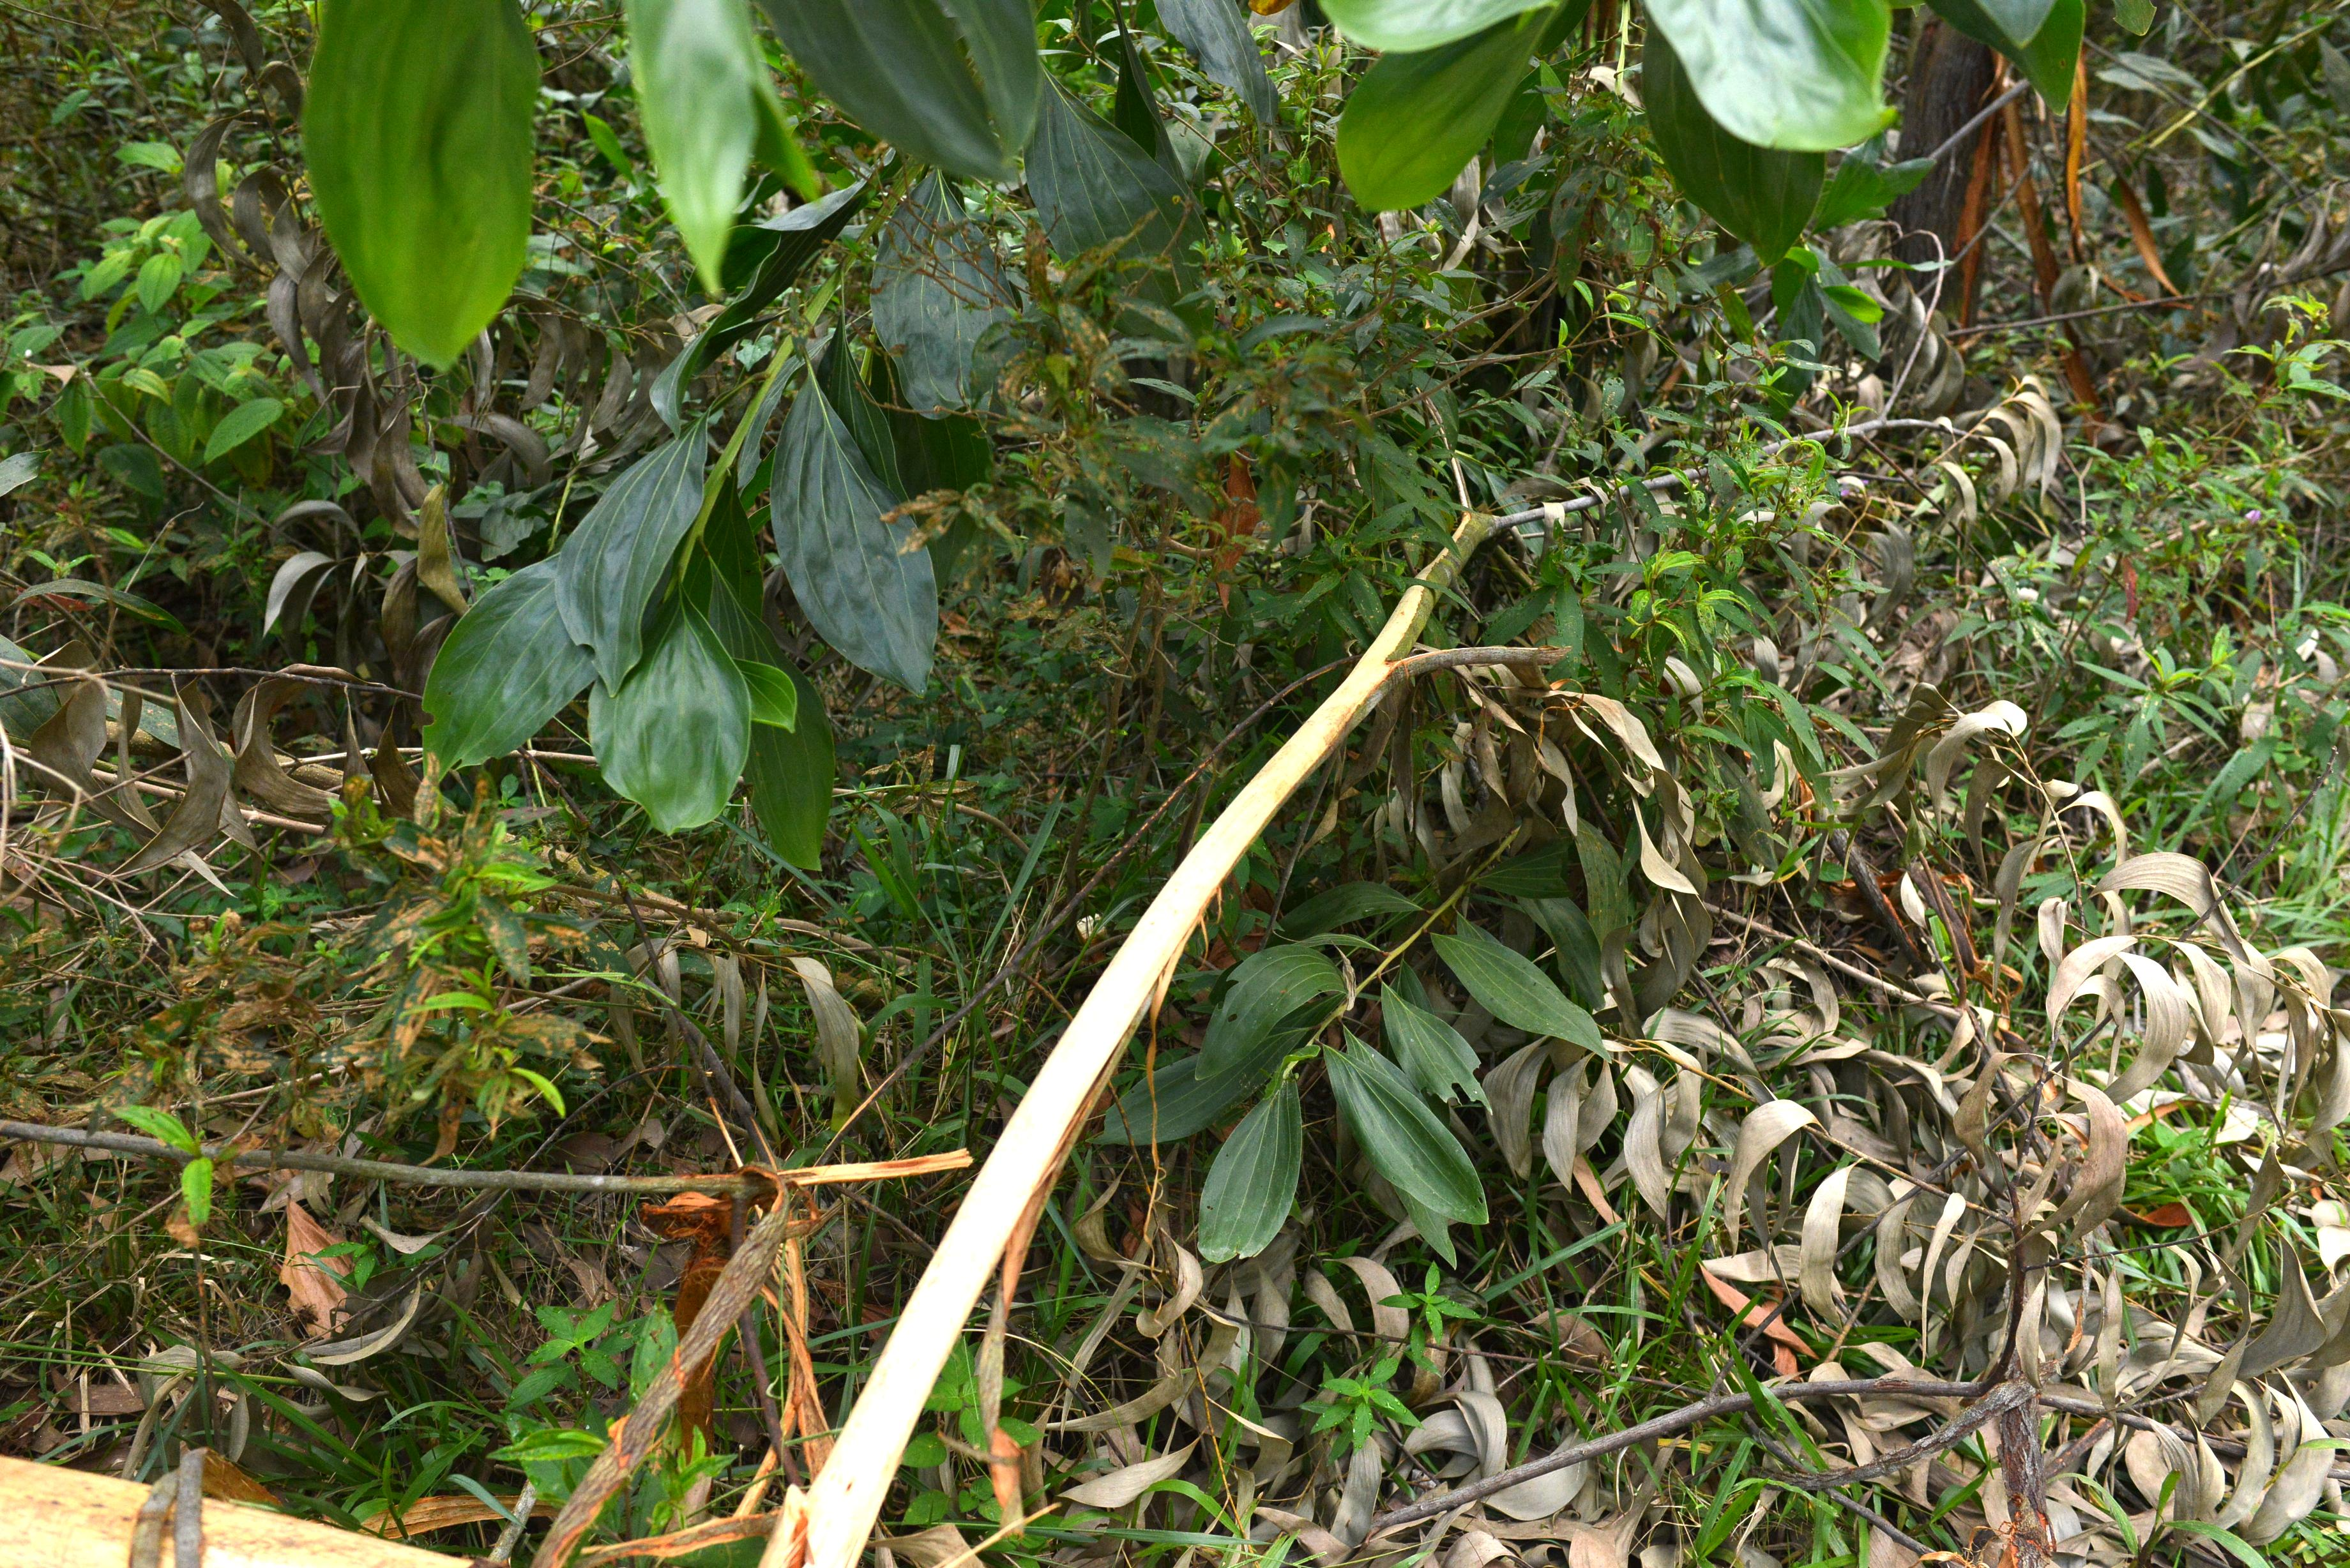Mammals Attack: (780, 486, 1514, 1568)
